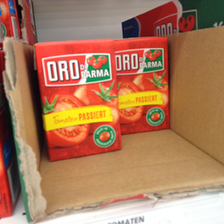tomato_sauce: (35, 39, 123, 163), (116, 37, 171, 135)
